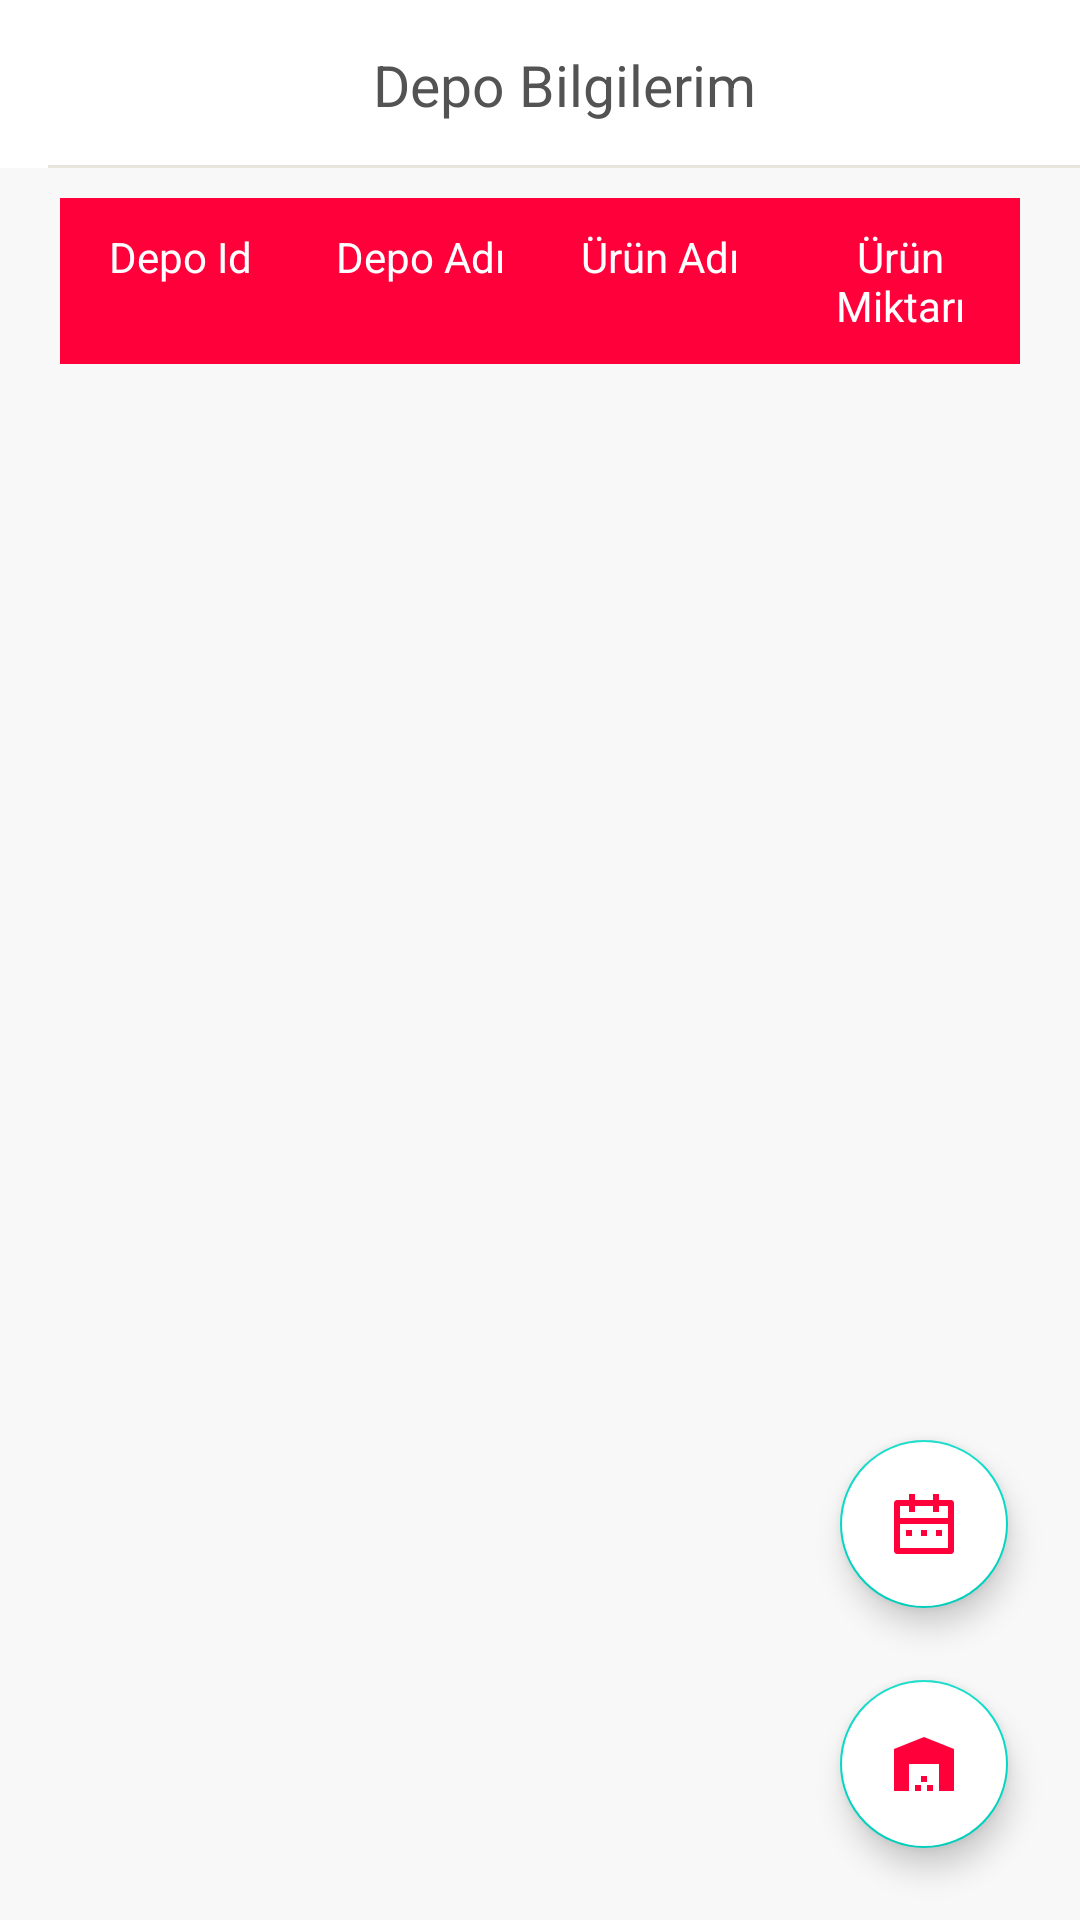

Icon bounding boxes for this 1080px×1920px phone screenshot, format (left=x1, top=y1, right=x2, bottom=y2):
calendar: (left=840, top=1440, right=1008, bottom=1608)
warehouse: (left=840, top=1680, right=1008, bottom=1848)
